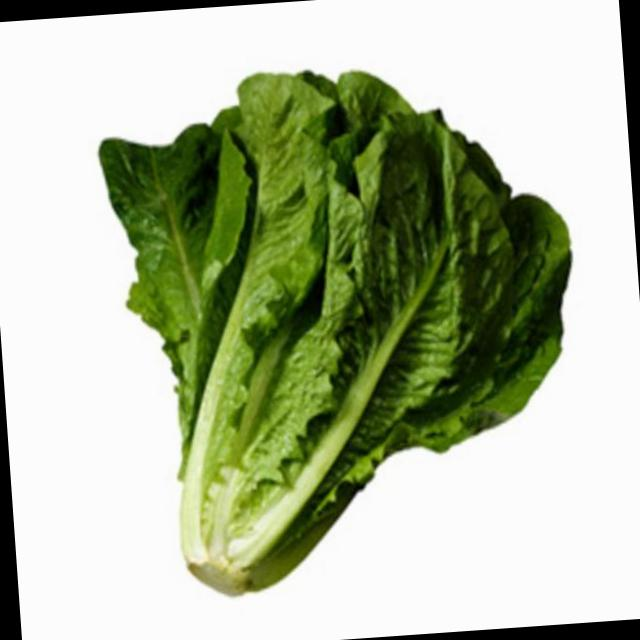Lettuce-Ready-to-Harvest: (99, 71, 570, 593)
